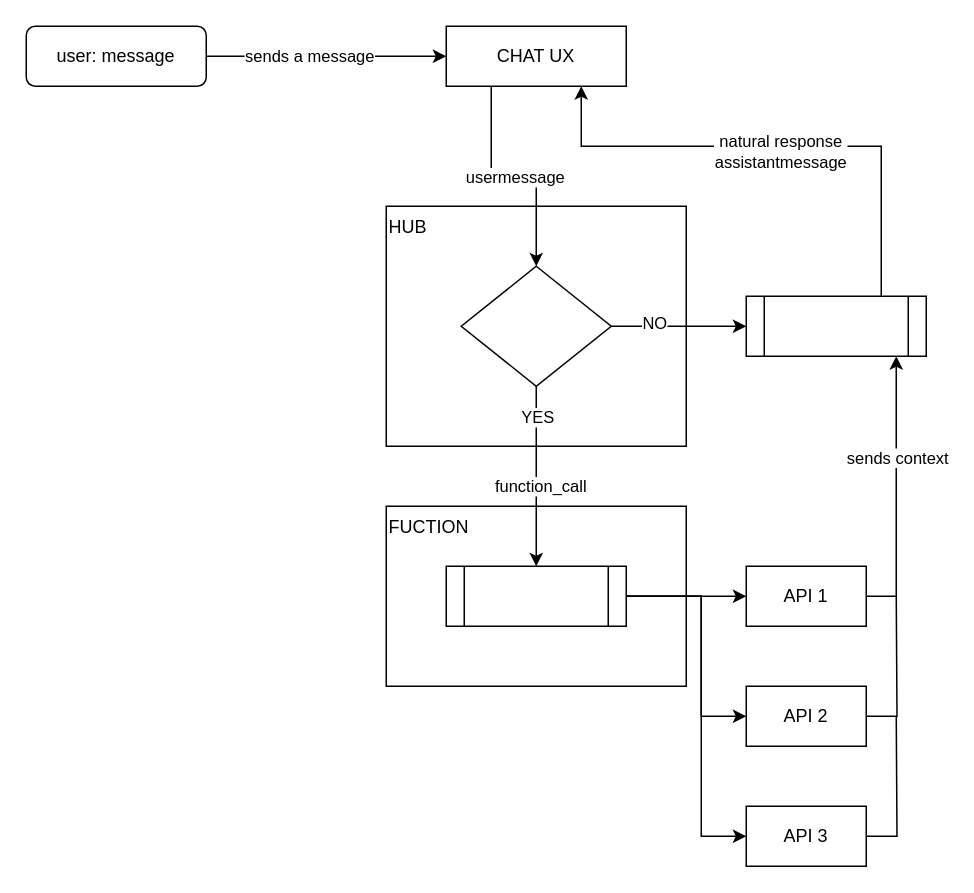
The diagram is 974 pixels wide and 893 high, and some of its shapes have lost their labels. The shapes that lost their labels are listed below. From the top down, each one's centre as x and y in pixels, then its label:
At point 535,325: "Is message a function?".
At point 835,325: "AI thread-assistant".
At point 535,595: "AI chatCompletion function".
